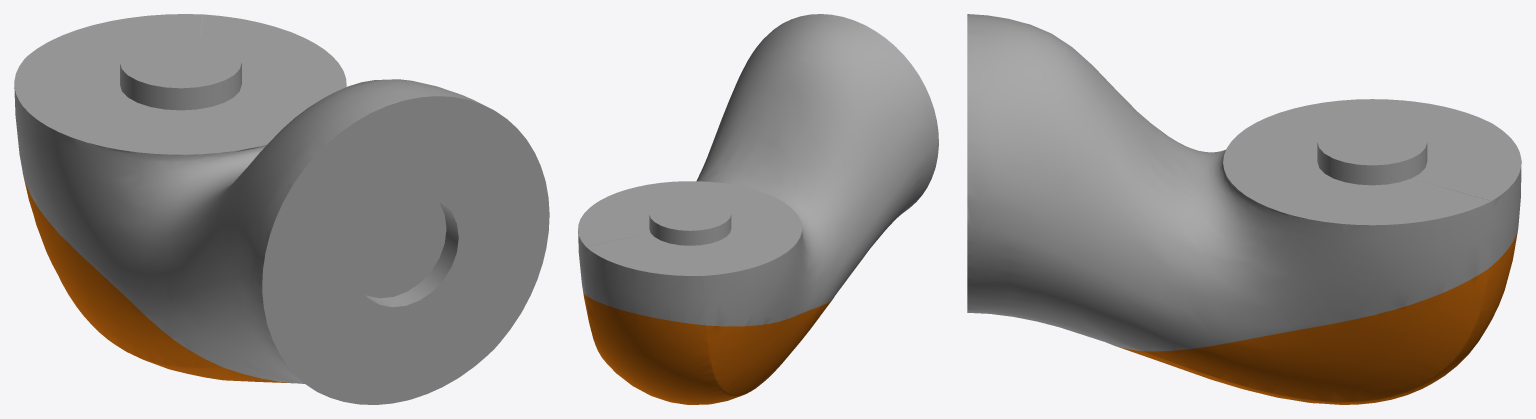
The picture shows the model from 3 angles, left to right: view 1: azimuth 30°, elevation 25°; view 2: azimuth 150°, elevation 25°; view 3: azimuth 270°, elevation 25°; orthographic projection. The views are drawn at different scales.
Parts seen in each view (by area): view 1: ShapeIndexedFaceSet; view 2: ShapeIndexedFaceSet; view 3: ShapeIndexedFaceSet.
Part boxes in pixels (box(x1,y1,x2,y2)): ShapeIndexedFaceSet: box(14, 14, 549, 404); ShapeIndexedFaceSet: box(578, 14, 938, 404); ShapeIndexedFaceSet: box(967, 14, 1521, 404).
Bounding box in the file's own units: 0.136 × 0.1825 × 0.2525.
